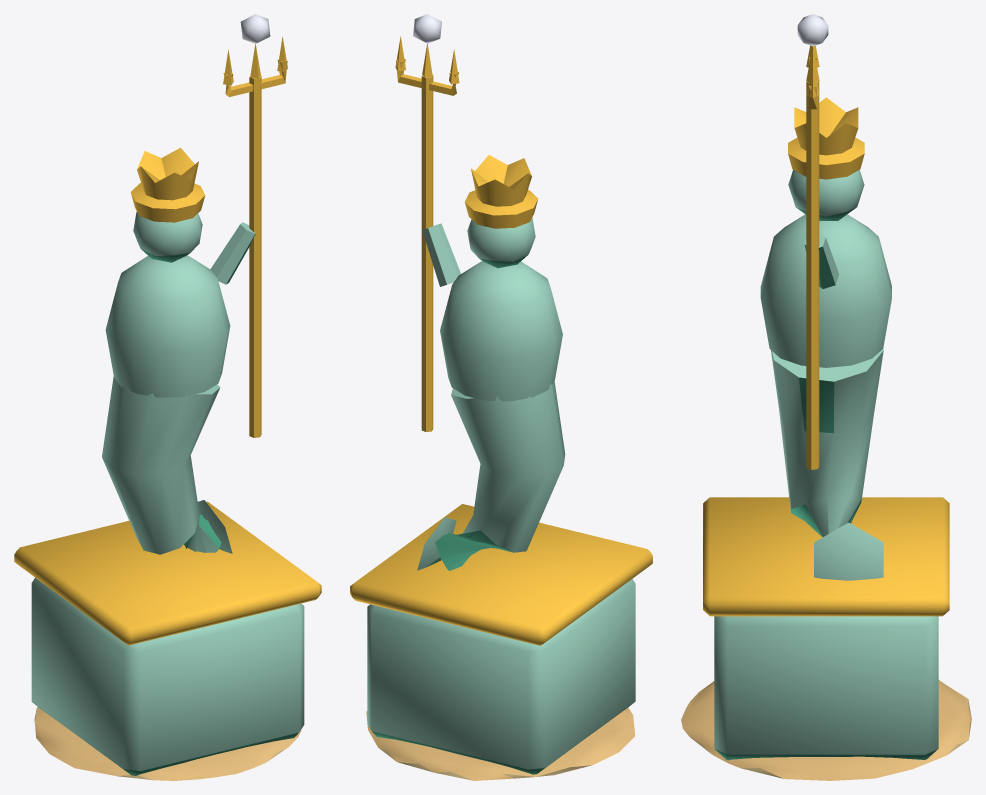
Rendered from TridentStatue.fbx.
The picture shows the model from 3 angles, left to right: view 1: azimuth 30°, elevation 25°; view 2: azimuth 150°, elevation 25°; view 3: azimuth 270°, elevation 25°; orthographic projection. The views are drawn at different scales.
Visible parts, largest first — view 1: TridentStatue; view 2: TridentStatue; view 3: TridentStatue.
Part boxes in pixels (box(x1,y1,x2,y2)): TridentStatue: box(14, 14, 321, 780); TridentStatue: box(350, 14, 652, 780); TridentStatue: box(681, 14, 971, 780).
Size of the model in its own units: 1.33 by 3.68 by 1.3.
Materials: 2 (2 with a texture image).
